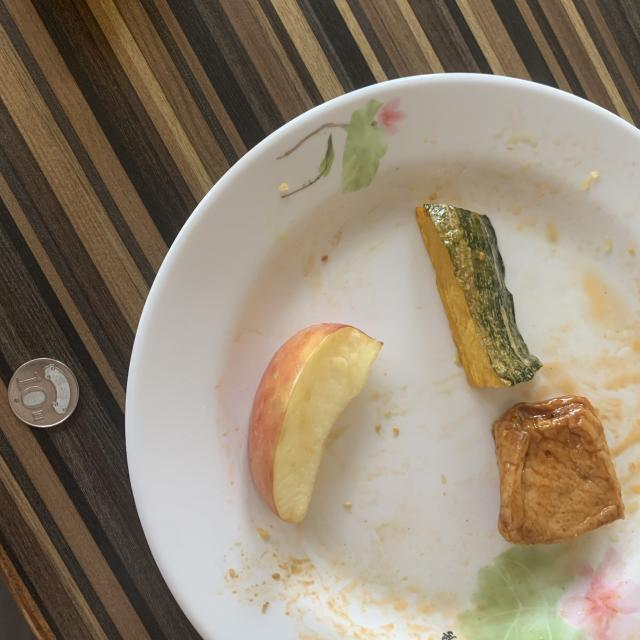apple -sliced-: (248, 324, 382, 522)
coin: (8, 358, 79, 428)
creamy tofu: (491, 396, 624, 545)
pumpkin: (416, 204, 541, 388)
